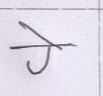e_matra: (19, 22, 57, 45)
